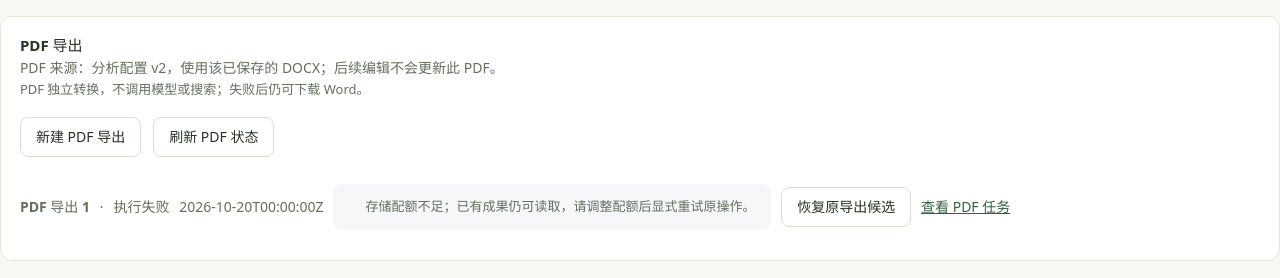
Test: labels local candidate recovery separately and keeps the original visible export/task
Click the button "恢复原导出候选" at (846, 207), box [781,187,911,227]
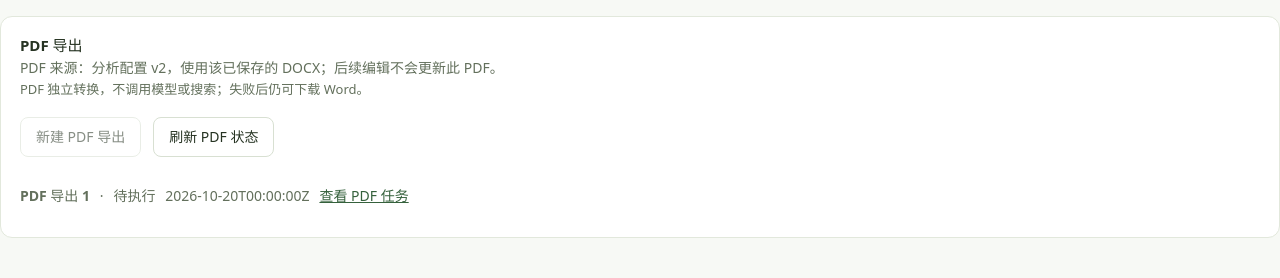
Check: the text "PDF 导出 1" is shown once, box [20,184,90,207]
Check: the text "待执行" is shown, box [113,184,155,207]
